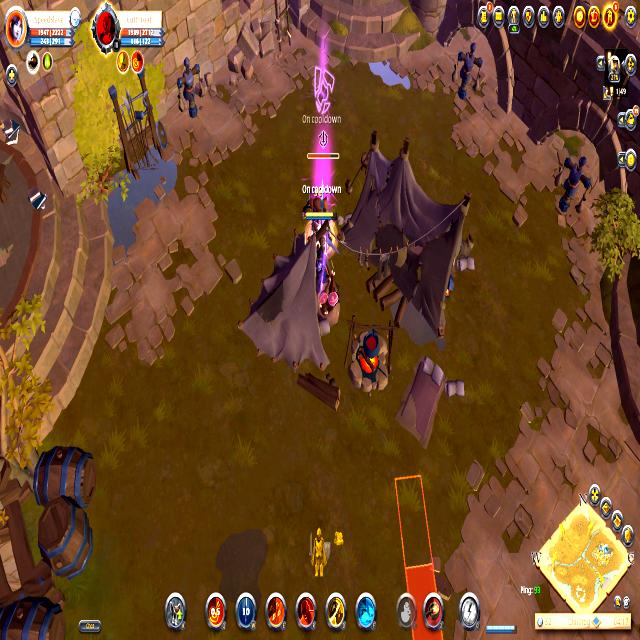ore: (300, 126, 341, 225)
red: (302, 206, 338, 292), (485, 622, 517, 637)
silver: (393, 470, 448, 640)
